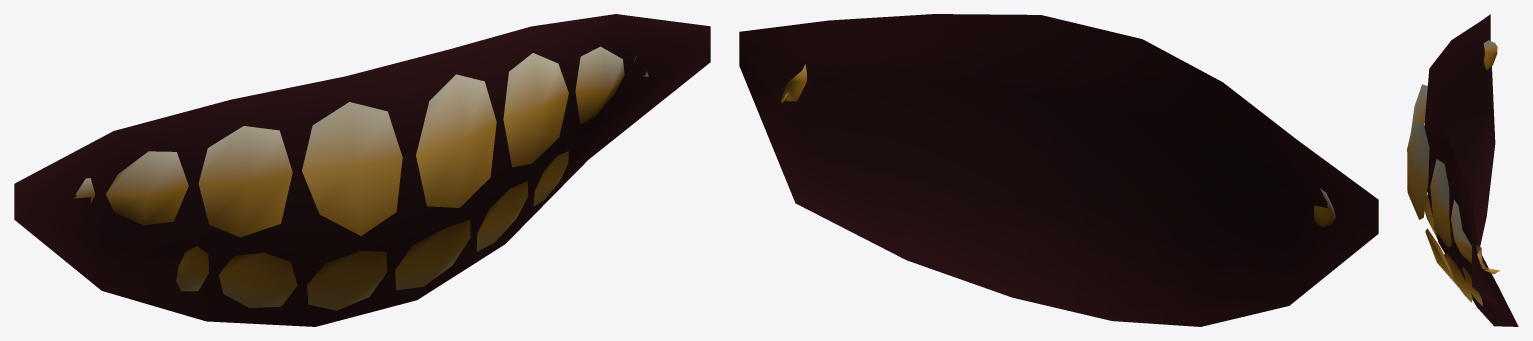
File: grill_gold_female_lo.glb
The picture shows the model from 3 angles, left to right: view 1: azimuth 30°, elevation 25°; view 2: azimuth 150°, elevation 25°; view 3: azimuth 270°, elevation 25°; orthographic projection. The views are drawn at different scales.
Parts seen in each view (by area): view 1: grill_gold_female_lo; view 2: grill_gold_female_lo; view 3: grill_gold_female_lo.
Part boxes in pixels (x1,y1,x2,y2): grill_gold_female_lo: [14, 14, 710, 326]; grill_gold_female_lo: [739, 14, 1378, 326]; grill_gold_female_lo: [1407, 14, 1518, 326].
Bounding box in the file's own units: 0.1198 × 0.0459 × 0.023.
